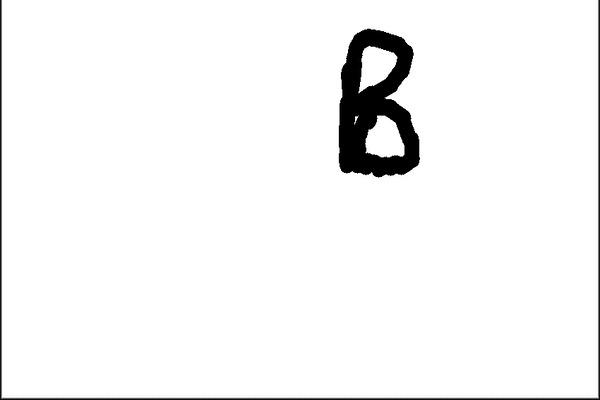B: (330, 23, 425, 182)
